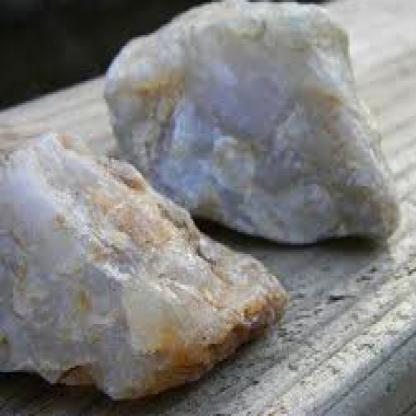Metamorphic_Quartize: (1, 118, 290, 414), (101, 0, 408, 250)
